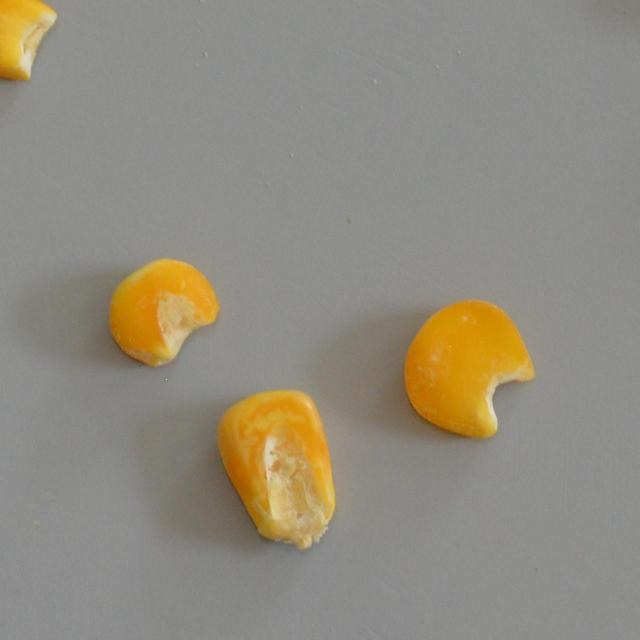entero: (210, 383, 340, 556)
no_canjicado: (396, 294, 539, 448)
no_desgerminado: (100, 254, 222, 374)
pelicula: (0, 0, 59, 84)
